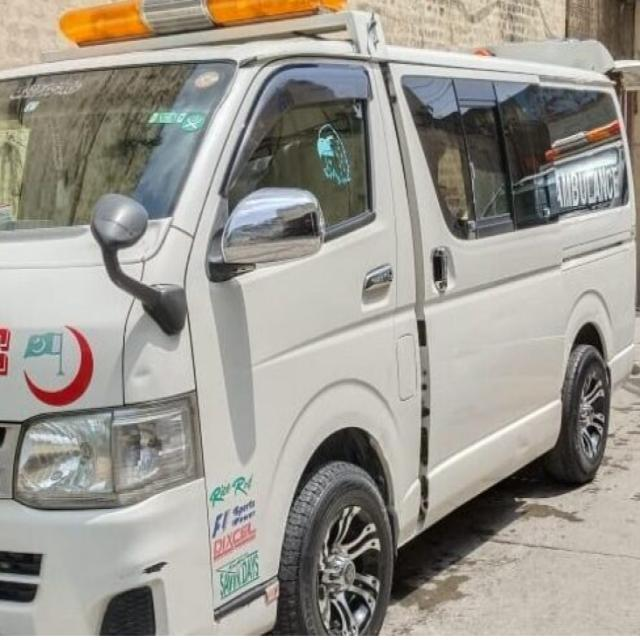ambulance: (0, 71, 640, 514)
